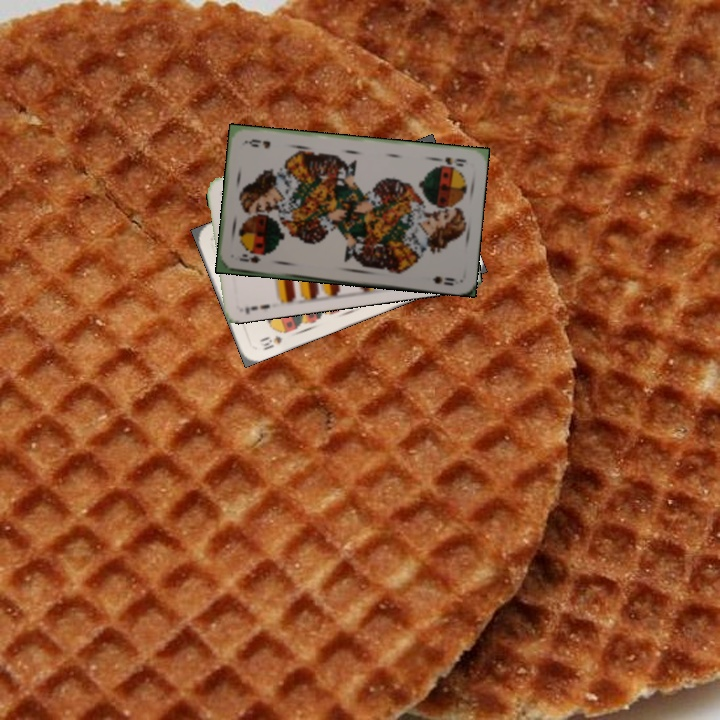E7: (241, 300, 272, 317)
S10: (255, 331, 286, 353)
SO: (431, 153, 469, 169), (235, 250, 263, 265)
